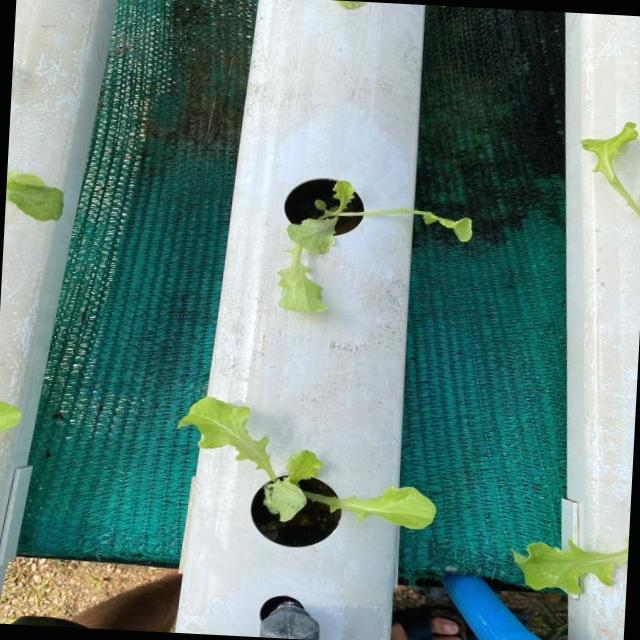Lettuce-Not-Ready-to-Harvest: (181, 397, 436, 529), (279, 181, 472, 312), (513, 540, 628, 595), (582, 122, 640, 218), (6, 172, 63, 221)
